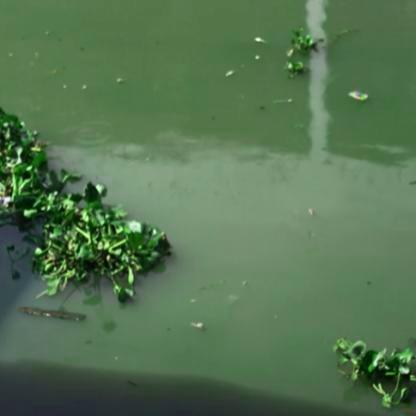Trash: (348, 87, 372, 105)
